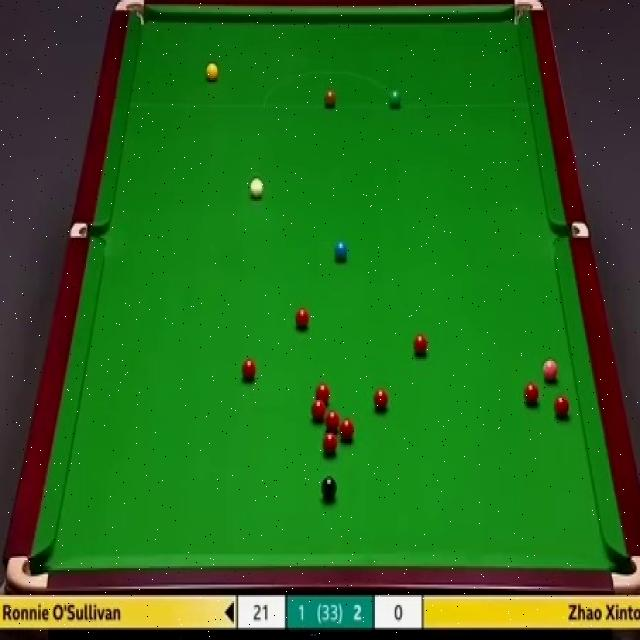black-ball: (321, 476, 337, 502)
blue-ball: (333, 239, 349, 261)
brown-ball: (323, 88, 337, 109)
green-ball: (389, 90, 402, 108)
pink-ball: (542, 357, 558, 383)
red-ball: (240, 356, 258, 384), (372, 386, 390, 412), (525, 382, 542, 406), (339, 419, 355, 444), (294, 308, 310, 330), (555, 396, 570, 418), (413, 334, 427, 357), (323, 433, 336, 456), (314, 383, 331, 400), (325, 413, 341, 430), (311, 398, 326, 415)
white-ball: (248, 175, 265, 201)
yellow-ball: (206, 63, 220, 84)
